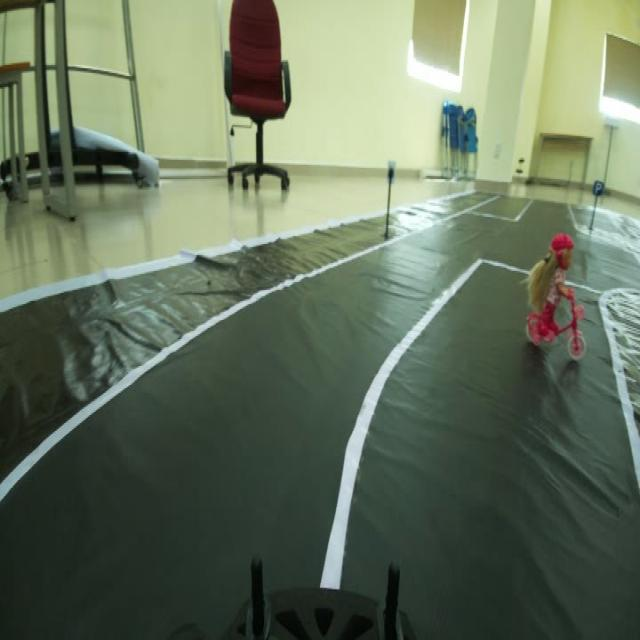pedestrian: (520, 217, 594, 371)
